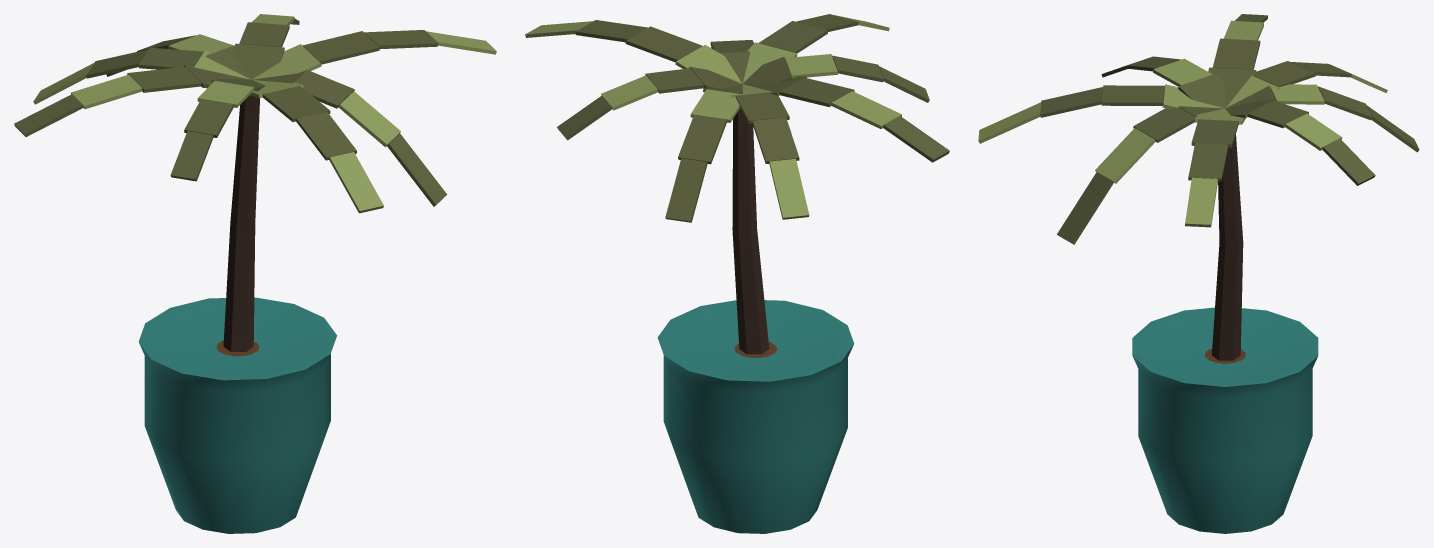
File: potted_palm.glb
3 views of the same model, side by side, from view 1: azimuth 30°, elevation 25°; view 2: azimuth 150°, elevation 25°; view 3: azimuth 270°, elevation 25° (orthographic). The views are drawn at different scales.
Visible parts, largest first — view 1: Palm; view 2: Palm; view 3: Palm.
Part boxes in pixels (left/top/right/bottom): Palm: left=14, top=14, right=496, bottom=533; Palm: left=525, top=14, right=949, bottom=533; Palm: left=978, top=14, right=1419, bottom=533.
Size of the model in its own units: 1.65 by 1.57 by 1.48.
